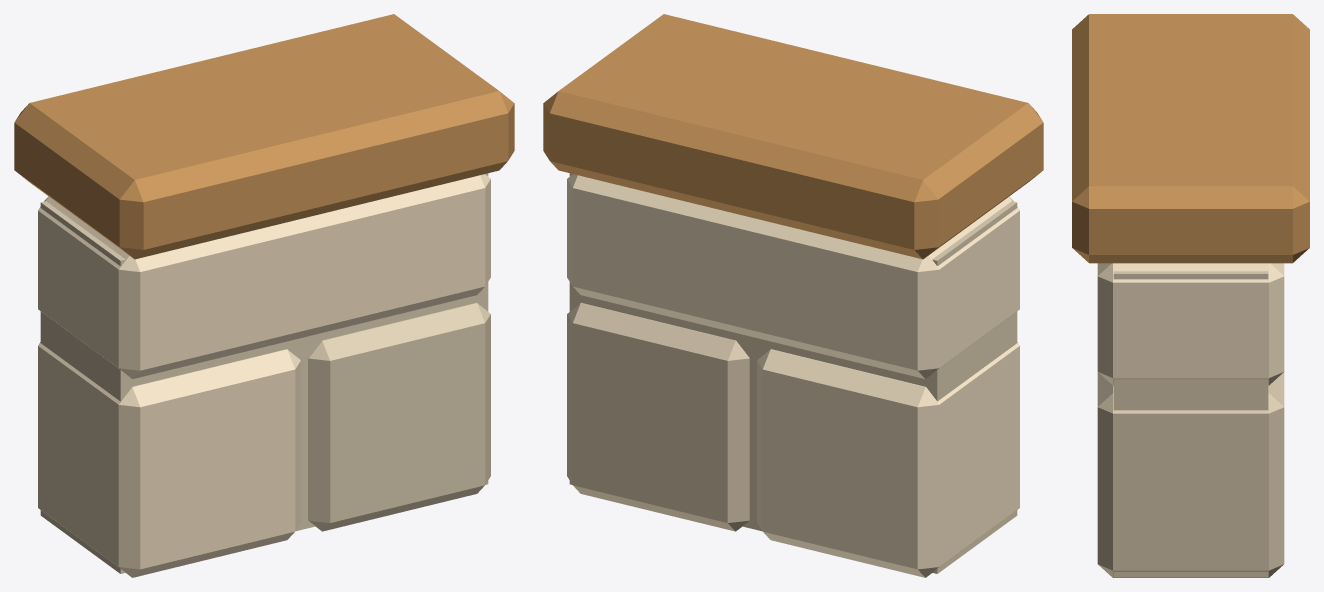
The model's file is mod_wall_lip_0.5m.glb.
3 renders of one model, left to right at view 1: azimuth 30°, elevation 25°; view 2: azimuth 150°, elevation 25°; view 3: azimuth 270°, elevation 25°, orthographic. The views are drawn at different scales.
Parts seen in each view (by area): view 1: mod_wall_lip_0.5m; view 2: mod_wall_lip_0.5m; view 3: mod_wall_lip_0.5m.
Part boxes in pixels (x1,y1,x2,y2): mod_wall_lip_0.5m: (14, 14, 514, 577); mod_wall_lip_0.5m: (543, 14, 1043, 577); mod_wall_lip_0.5m: (1072, 14, 1309, 577).
Bounding box in the file's own units: 0.52 × 0.515 × 0.28.
